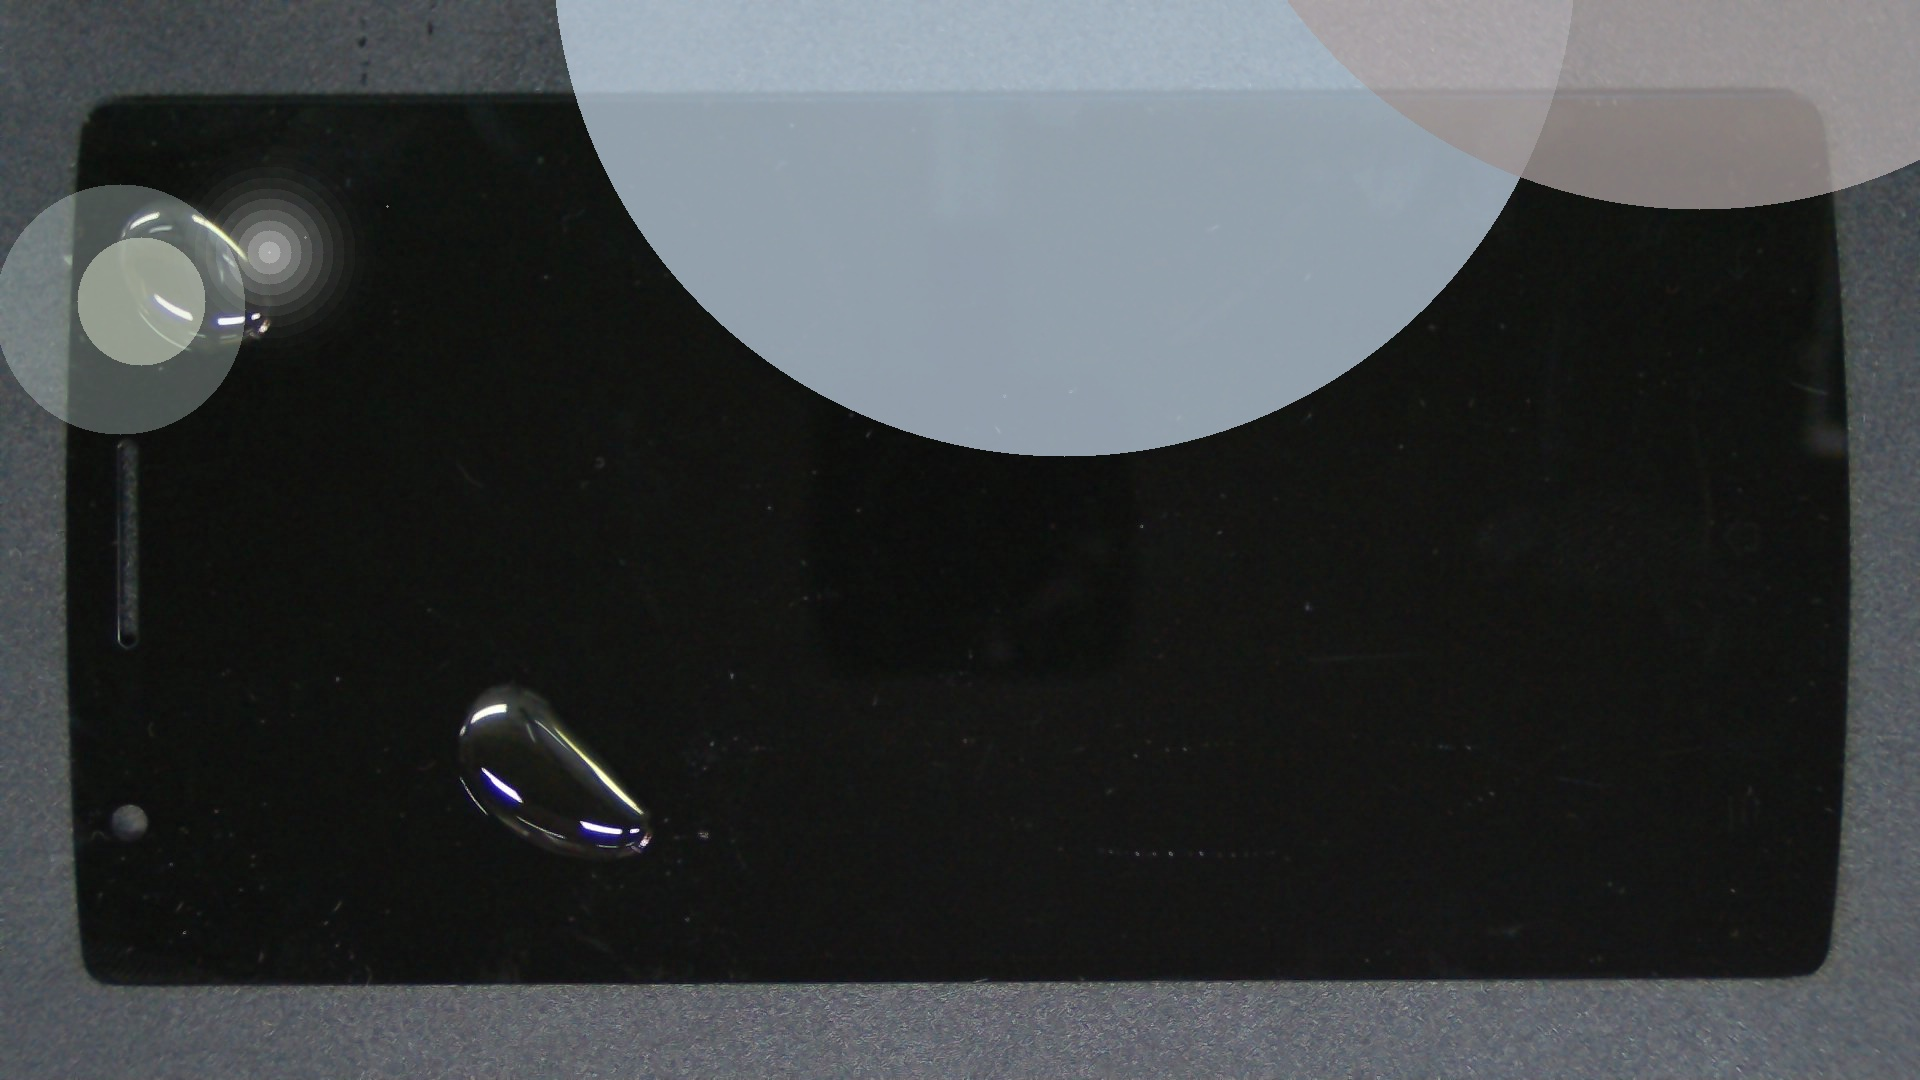oil: (255, 342, 760, 1025), (83, 99, 247, 301)
